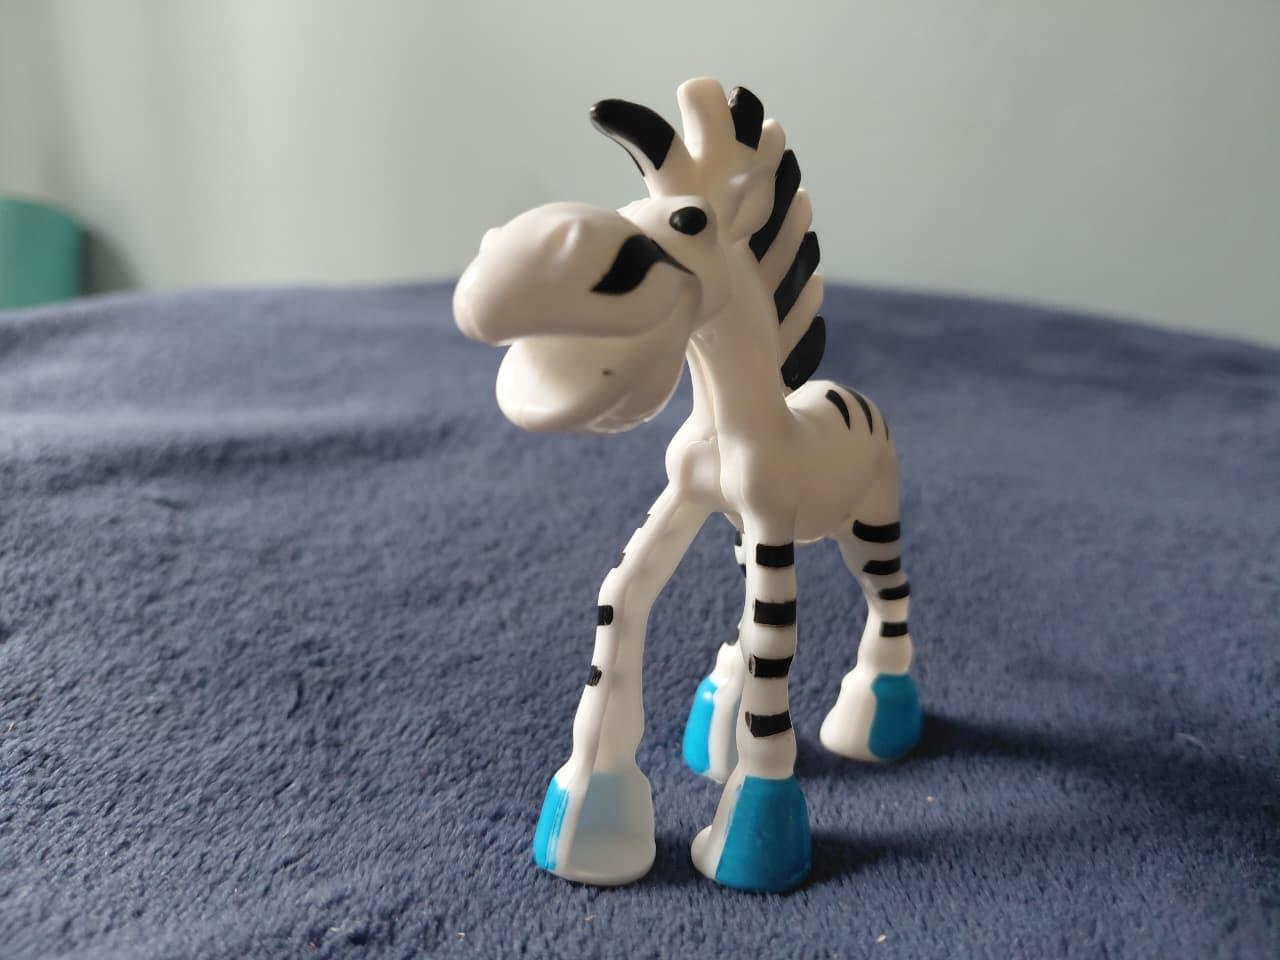zebra: (456, 69, 944, 896)
